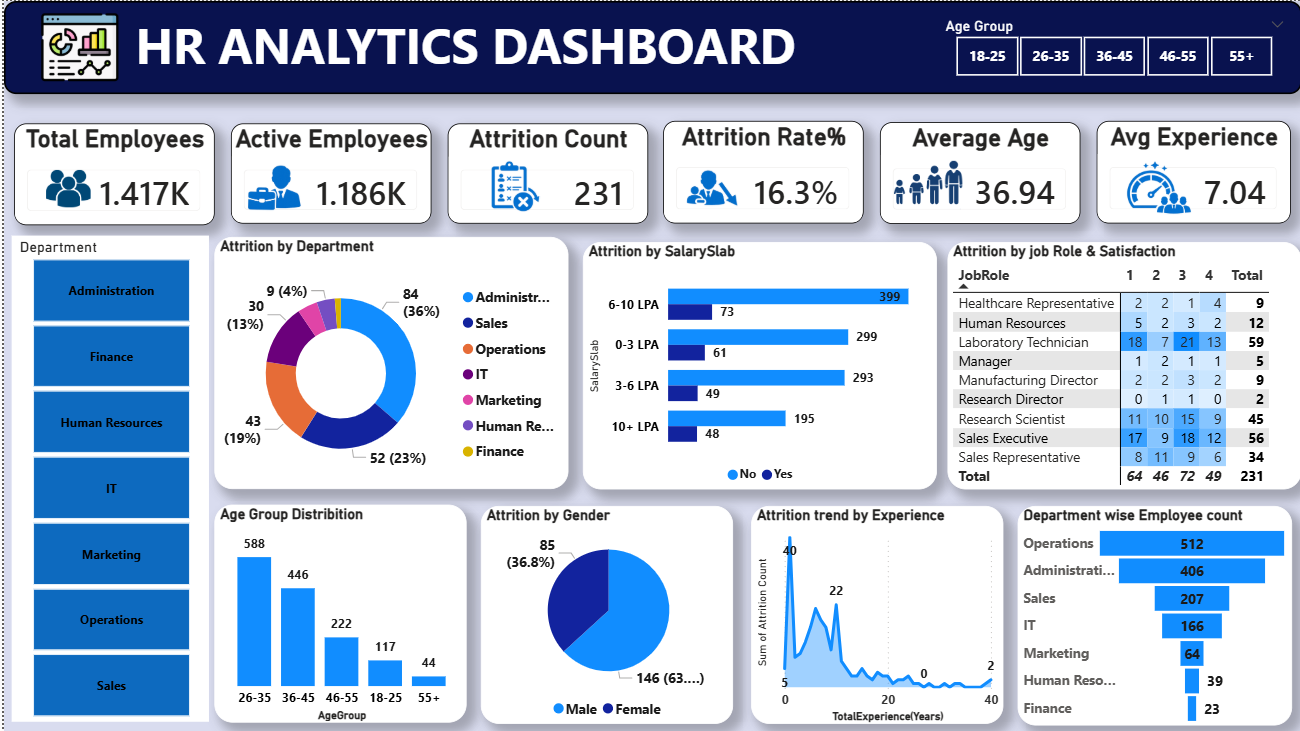

The dashboard page shown, as its layout file describes it:
{"tool":"powerbi","page":{"name":"Page 1","canvas":[1280,720],"ordinal":0},"visuals":[{"type":"textbox","box":[0,0,1279.4,91.7],"z":0},{"type":"cardVisual","title":" Total Employees","fields":{"Data":["CountNonNull(HR_Analytics-4.EmpID)"]},"box":[10,121.2,197.5,100],"z":1000},{"type":"cardVisual","title":"Active Employees","fields":{"Data":["CountNonNull(HR_Analytics-4.EmployeeCount)"]},"box":[223.8,121.2,197.5,98.8],"z":2000},{"type":"cardVisual","title":"Attrition Count","fields":{"Data":["Sum(HR_Analytics-4.Attrition Count)"]},"box":[437.5,121.2,197.5,98.8],"z":3000},{"type":"cardVisual","title":"Attrition Rate%","fields":{"Data":["HR_Analytics-4.Attrition Rate"]},"box":[650,118.8,197.5,101.2],"z":4000},{"type":"cardVisual","title":"Average Age","fields":{"Data":["Avg(HR_Analytics-4.Age)"]},"box":[863.8,120,197.5,100],"z":5000},{"type":"cardVisual","title":"Avg Experience","fields":{"Data":["Avg(HR_Analytics-4.YearsatCompany)"]},"box":[1077.5,118.8,191.2,101.2],"z":6000},{"type":"donutChart","title":"Attrition by Department","fields":{"Y":["Sum(HR_Analytics-4.Attrition Count)"],"Category":["HR_Analytics-4.Department"]},"box":[207.4,232.5,349.4,248.8],"z":7000},{"type":"clusteredBarChart","title":"Attrition by SalarySlab","fields":{"Category":["HR_Analytics-4.SalarySlab"],"Y":["CountNonNull(HR_Analytics-4.EmpID)"],"Series":["HR_Analytics-4.Attrition"]},"box":[570.6,237.5,349.4,243.8],"z":8000},{"type":"pivotTable","title":"Attrition by job Role  & Satisfaction","fields":{"Rows":["HR_Analytics-4.JobRole"],"Values":["Sum(HR_Analytics-4.Attrition Count)"],"Columns":["HR_Analytics-4.JobSatisfaction"]},"box":[930,237.5,349.4,243.8],"z":9000},{"type":"columnChart","title":"Age Group Distribition","fields":{"Category":["HR_Analytics-4.AgeGroup"],"Y":["CountNonNull(HR_Analytics-4.EmpID)"]},"box":[207.4,496.4,248.8,214.9],"z":10000},{"type":"pieChart","title":"Attrition by Gender","fields":{"Category":["HR_Analytics-4.Gender"],"Y":["Sum(HR_Analytics-4.Attrition Count)"]},"box":[470,497.7,248.8,214.9],"z":11000},{"type":"areaChart","title":"Attrition trend by Experience","fields":{"Y":["Sum(HR_Analytics-4.Attrition Count)"],"Category":["HR_Analytics-4.TotalExperience(Years)"]},"box":[736.5,497.7,248.8,214.9],"z":12000},{"type":"funnel","title":"Department wise Employee count","fields":{"Y":["CountNonNull(HR_Analytics-4.EmpID)"],"Category":["HR_Analytics-4.Department"]},"box":[999.1,497.7,270.2,216.2],"z":13000},{"type":"slicer","fields":{"Values":["HR_Analytics-4.Department"]},"box":[7.5,231.2,194.8,478.8],"z":14000},{"type":"slicer","fields":{"Values":["HR_Analytics-4.AgeGroup"]},"box":[920,16.3,349.4,60.3],"z":15000},{"type":"image","box":[10,7.5,130,76.2],"z":16000},{"type":"image","box":[877.5,152.5,67.5,58.8],"z":17000},{"type":"image","box":[41.5,163.4,44,42.7],"z":18000},{"type":"image","box":[1076,146,113.3,70],"z":19000},{"type":"image","box":[437.4,140.8,119.4,71.6],"z":20000},{"type":"image","box":[672.4,157.1,51.5,55.3],"z":21000},{"type":"image","box":[225,159.6,81.7,49],"z":22000}]}

Visuals, with their boxes in screenshot pixels (x1, y1, x2, y2), scaled from the page's 1280x720 canvas onto the 1300x731 screenshot:
textbox: x1=0, y1=0, x2=1299, y2=93
" Total Employees" cardVisual: x1=10, y1=123, x2=211, y2=225
"Active Employees" cardVisual: x1=227, y1=123, x2=428, y2=223
"Attrition Count" cardVisual: x1=444, y1=123, x2=645, y2=223
"Attrition Rate%" cardVisual: x1=660, y1=121, x2=861, y2=223
"Average Age" cardVisual: x1=877, y1=122, x2=1078, y2=223
"Avg Experience" cardVisual: x1=1094, y1=121, x2=1289, y2=223
"Attrition by Department" donutChart: x1=211, y1=236, x2=566, y2=489
"Attrition by SalarySlab" clusteredBarChart: x1=580, y1=241, x2=934, y2=489
"Attrition by job Role  & Satisfaction" pivotTable: x1=945, y1=241, x2=1299, y2=489
"Age Group Distribition" columnChart: x1=211, y1=504, x2=463, y2=722
"Attrition by Gender" pieChart: x1=477, y1=505, x2=730, y2=723
"Attrition trend by Experience" areaChart: x1=748, y1=505, x2=1001, y2=723
"Department wise Employee count" funnel: x1=1015, y1=505, x2=1289, y2=725
slicer - HR_Analytics-4.Department: x1=8, y1=235, x2=205, y2=721
slicer - HR_Analytics-4.AgeGroup: x1=934, y1=17, x2=1289, y2=78
image: x1=10, y1=8, x2=142, y2=85
image: x1=891, y1=155, x2=960, y2=215
image: x1=42, y1=166, x2=87, y2=209
image: x1=1093, y1=148, x2=1208, y2=219
image: x1=444, y1=143, x2=566, y2=216
image: x1=683, y1=160, x2=735, y2=216
image: x1=229, y1=162, x2=311, y2=212
